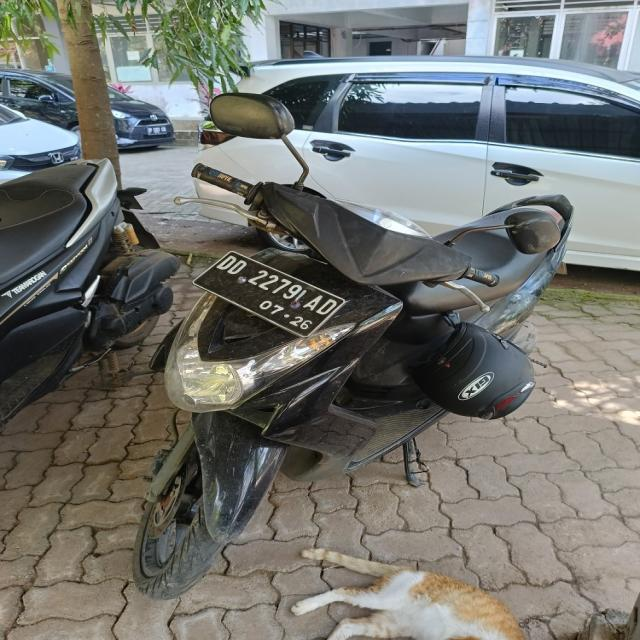plates: (194, 250, 341, 339)
